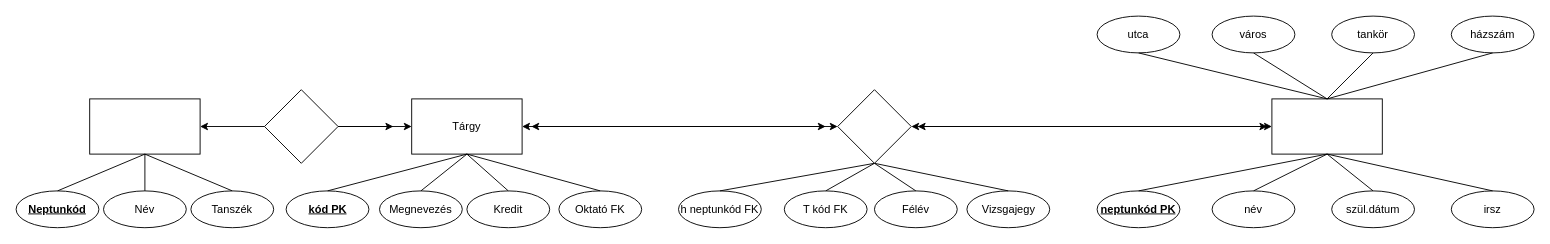
The diagram is 1550 pixels wide and 244 high, and some of its shapes have lost their labels. Here are the shapes that lost their labels. From the top down, the centre of each, then its label:
point 144,126: Oktató
point 301,126: O-T
point 874,126: Hallgat
point 1326,126: Hallgató
